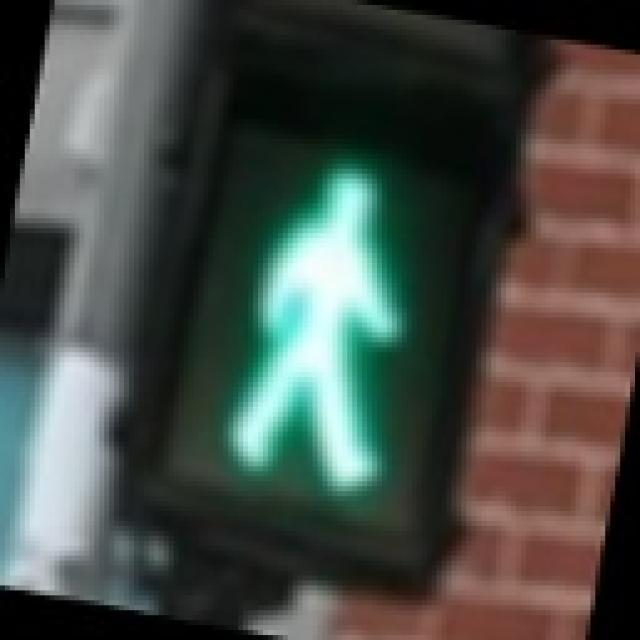geen-crossing: (119, 74, 506, 551)
